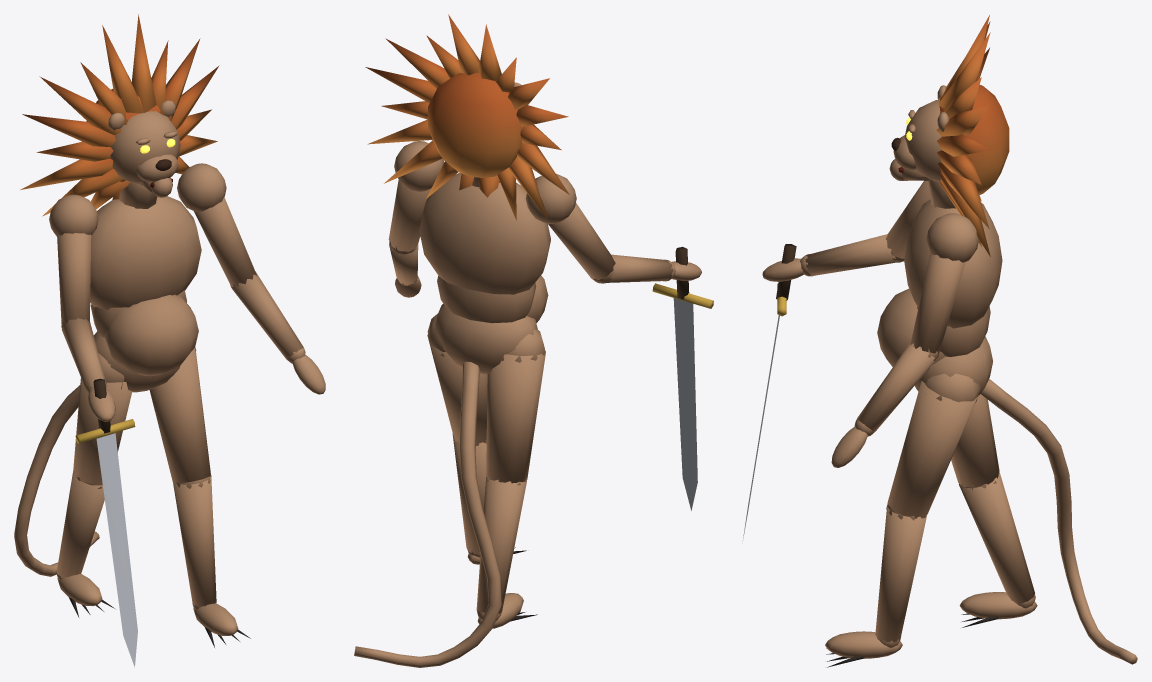
The model's file is leonis.glb.
3 views of the same model, side by side, from view 1: azimuth 30°, elevation 25°; view 2: azimuth 150°, elevation 25°; view 3: azimuth 270°, elevation 25° (orthographic). The views are drawn at different scales.
Visible parts, largest first — view 1: torso, head, hand_R, thigh_L, upperarm_L, upperarm_R, shin_L, tail, shin_R, thigh_R, forearm_L, forearm_R (+4 smaller); view 2: head, torso, thigh_R, tail, hand_R, upperarm_R, pelvis, shin_R, upperarm_L, thigh_L, forearm_R, shin_L (+2 smaller); view 3: head, torso, thigh_L, upperarm_L, tail, shin_R, shin_L, thigh_R, forearm_L, forearm_R, hand_R, pelvis (+4 smaller).
Part boxes in pixels (box(x1,y1,x2,y2)): torso: box(90, 182, 201, 376); head: box(20, 14, 219, 216); hand_R: box(75, 378, 137, 667); thigh_L: box(149, 347, 210, 487); upperarm_L: box(177, 163, 256, 290); upperarm_R: box(49, 194, 98, 324); shin_L: box(173, 474, 216, 609); tail: box(14, 385, 99, 576); shin_R: box(56, 469, 104, 579); thigh_R: box(73, 353, 132, 484); forearm_L: box(231, 271, 305, 363); forearm_R: box(61, 318, 106, 393); head: box(365, 14, 569, 220); torso: box(419, 173, 550, 323); thigh_R: box(486, 329, 545, 485); tail: box(354, 361, 501, 667); hand_R: box(652, 246, 713, 510); upperarm_R: box(525, 173, 615, 282); pelvis: box(435, 303, 537, 374); shin_R: box(476, 477, 526, 620); upperarm_L: box(388, 141, 444, 255); thigh_L: box(427, 313, 487, 445); forearm_R: box(593, 254, 675, 283); shin_L: box(452, 434, 486, 557); head: box(889, 15, 1009, 256); torso: box(877, 179, 1002, 371); thigh_L: box(887, 373, 980, 519); upperarm_L: box(910, 213, 978, 353); tail: box(980, 378, 1137, 664); shin_R: box(959, 471, 1035, 608); shin_L: box(875, 504, 926, 647); thigh_R: box(951, 394, 999, 487); forearm_L: box(854, 342, 938, 436); forearm_R: box(800, 234, 904, 276); hand_R: box(742, 244, 803, 541); pelvis: box(914, 336, 992, 395).
Size of the model in its own units: 1.3 by 2.66 by 1.51.
